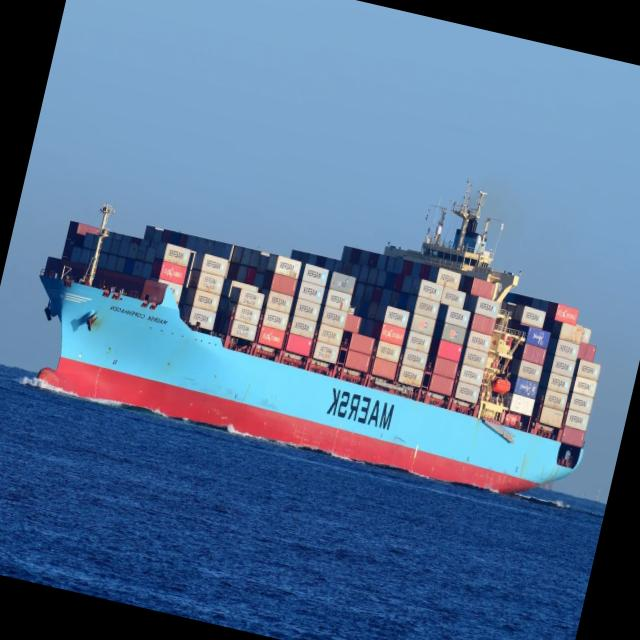Cargo: (39, 191, 601, 492), (101, 204, 114, 215)
